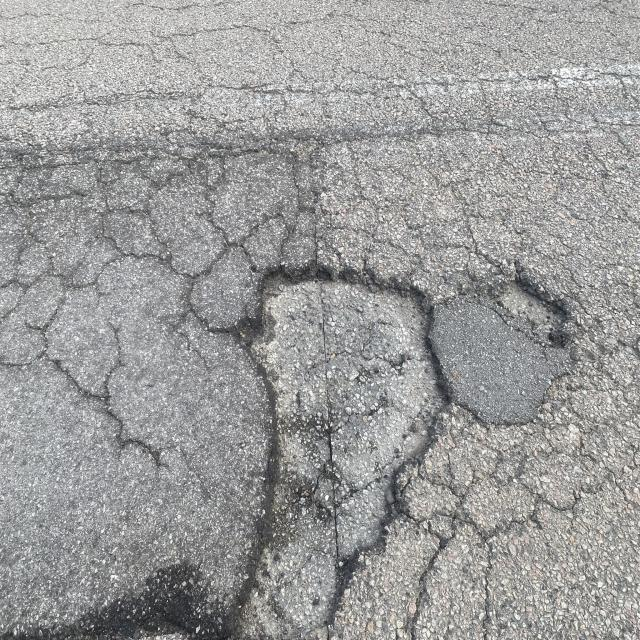pothole: (194, 229, 444, 640), (404, 165, 576, 468)
